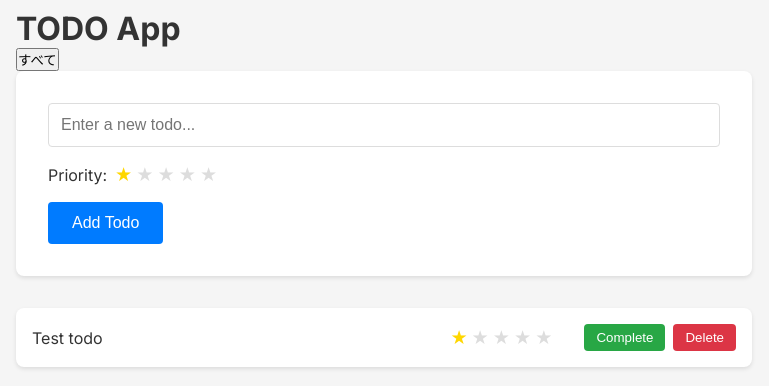
Test: Todo App › deletes todo
Expected: the text "Test todo" is shown, x1=32 y1=328 x2=103 y2=348
Step 1. Click the button "Delete" → x=705, y=338, box x1=674 y1=324 x2=736 y2=351
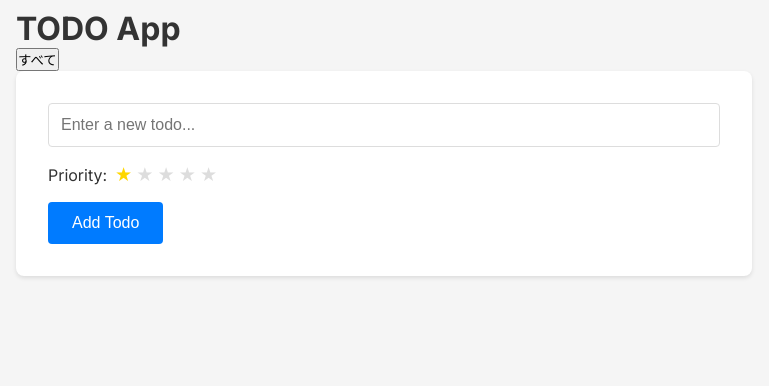
Result: the text "Test todo" is gone
